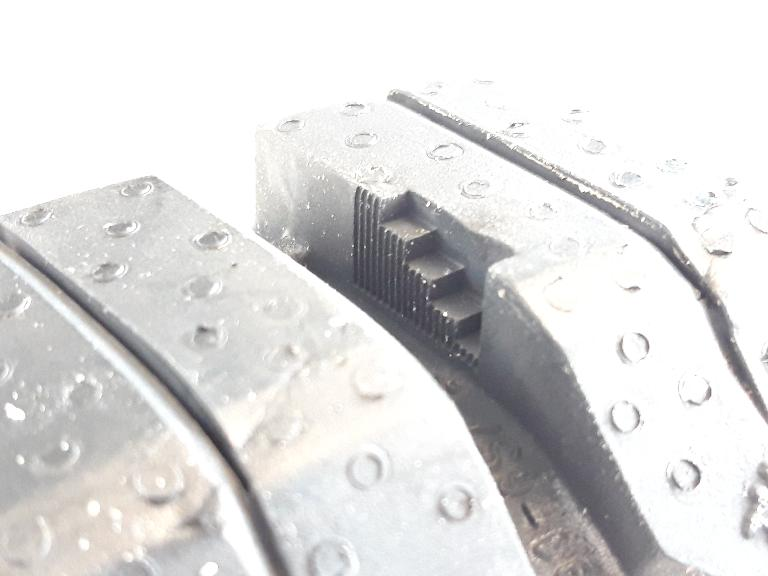temoin:100: (345, 176, 528, 378)
